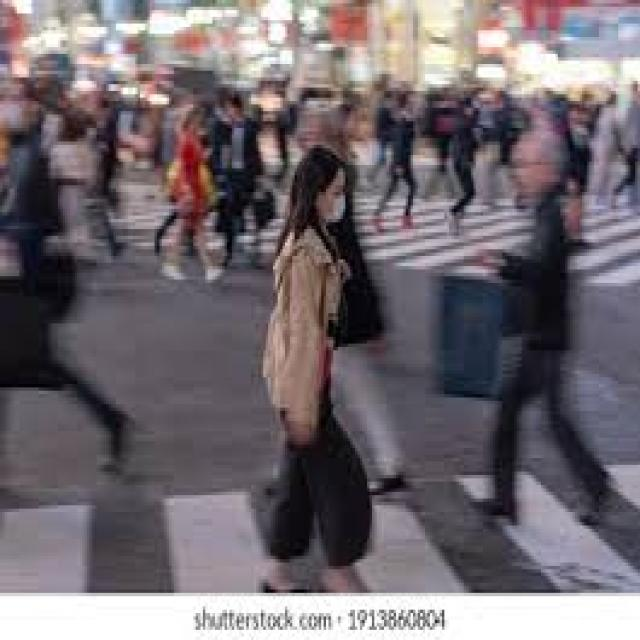Pedestrians: (263, 138, 370, 583)
